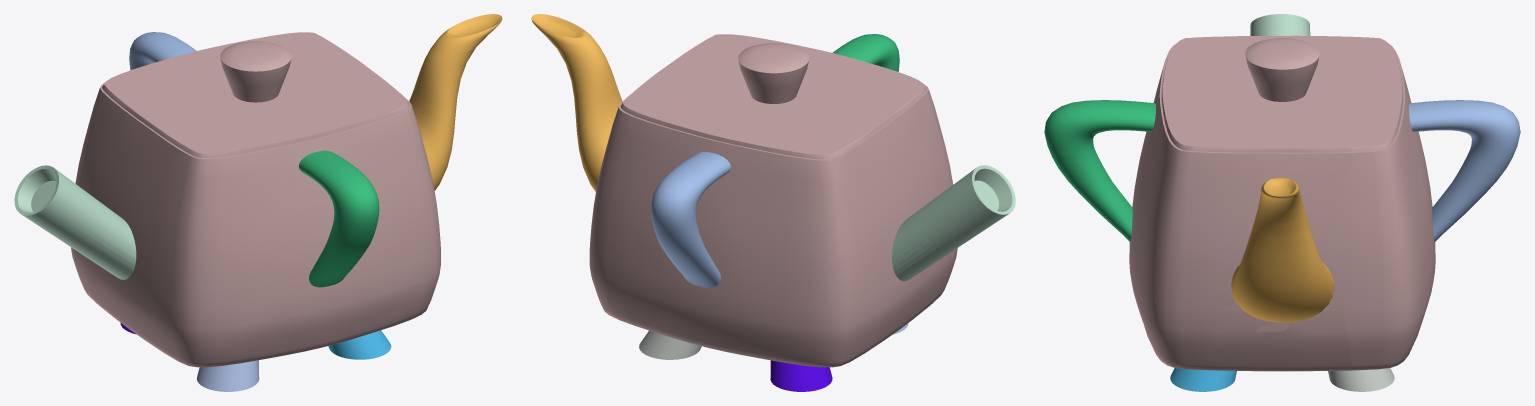
3 renders of one model, left to right at view 1: azimuth 30°, elevation 25°; view 2: azimuth 150°, elevation 25°; view 3: azimuth 270°, elevation 25°, orthographic. The views are drawn at different scales.
Visible parts, largest first — view 1: split_parent_0, Object_2.005, Object_2.890, Object_2.1445, Object_2.260, Object_2.004, Object_2.002; view 2: split_parent_0, Object_2.005, Object_2.890, Object_2.260, Object_2.1445, Object_2.001, Object_2.003; view 3: split_parent_0, Object_2.890, Object_2.260, Object_2.1445, Object_2.002, Object_2.003, Object_2.005.
Part boxes in pixels (left/top/right/bottom): split_parent_0: left=71, top=32, right=440, bottom=367; Object_2.005: left=14, top=165, right=136, bottom=279; Object_2.890: left=409, top=14, right=502, bottom=190; Object_2.1445: left=299, top=150, right=379, bottom=287; Object_2.260: left=129, top=32, right=196, bottom=70; Object_2.004: left=197, top=360, right=259, bottom=391; Object_2.002: left=328, top=330, right=391, bottom=359; split_parent_0: left=589, top=34, right=957, bottom=367; Object_2.005: left=892, top=165, right=1015, bottom=281; Object_2.890: left=531, top=14, right=622, bottom=191; Object_2.260: left=651, top=152, right=730, bottom=287; Object_2.1445: left=833, top=34, right=899, bottom=71; Object_2.001: left=770, top=360, right=832, bottom=391; Object_2.003: left=639, top=330, right=701, bottom=359; split_parent_0: left=1129, top=35, right=1435, bottom=371; Object_2.890: left=1231, top=177, right=1334, bottom=322; Object_2.260: left=1409, top=100, right=1520, bottom=242; Object_2.1445: left=1044, top=100, right=1155, bottom=242; Object_2.002: left=1170, top=368, right=1236, bottom=391; Object_2.003: left=1328, top=368, right=1394, bottom=391; Object_2.005: left=1250, top=14, right=1310, bottom=35.
Bounding box in the file's own units: 1 × 0.5614 × 0.8211.
